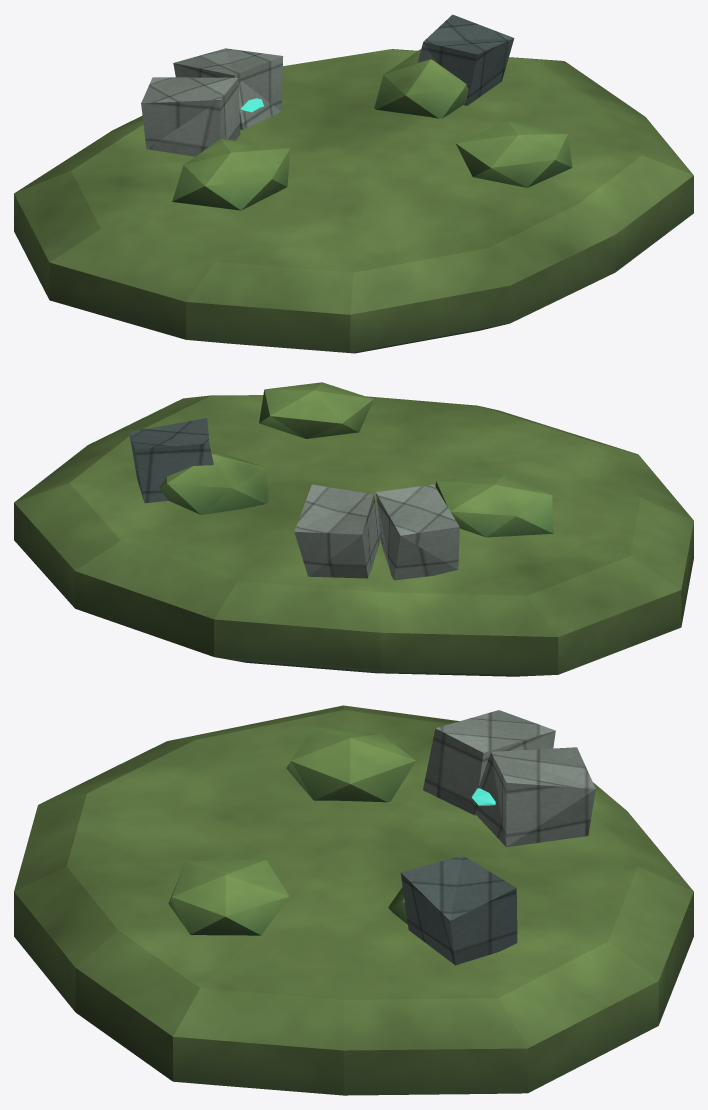
The model's file is mossy_island_a.glb.
3 views of the same model, one above another, from view 1: azimuth 30°, elevation 25°; view 2: azimuth 150°, elevation 25°; view 3: azimuth 270°, elevation 25° (orthographic). The views are drawn at different scales.
Visible parts, largest first — view 1: mossy_island_a; view 2: mossy_island_a; view 3: mossy_island_a.
Part boxes in pixels (bbox=[...]): mossy_island_a: bbox=[14, 14, 693, 353]; mossy_island_a: bbox=[14, 382, 693, 676]; mossy_island_a: bbox=[14, 705, 693, 1095].
Bounding box in the file's own units: 5.27 × 1.27 × 4.39.
3 materials, 3 textured.
